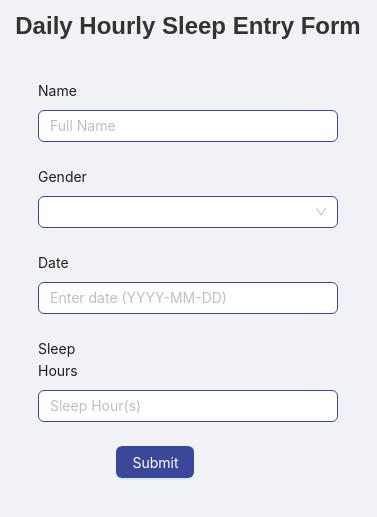
Test: Post Form › If not filled errors should be displayed
Click the button "Submit". click: (155, 462)
box: [116,446,194,478]
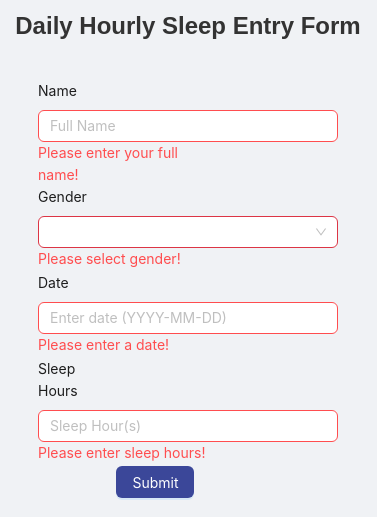
Check: the text "Please enter your full name!" is shown, box [38,144,178,183]
Check: the text "Please select gender!" is shown, box [38,250,181,267]
Check: the text "Please enter a date!" is shown, box [38,336,169,353]
